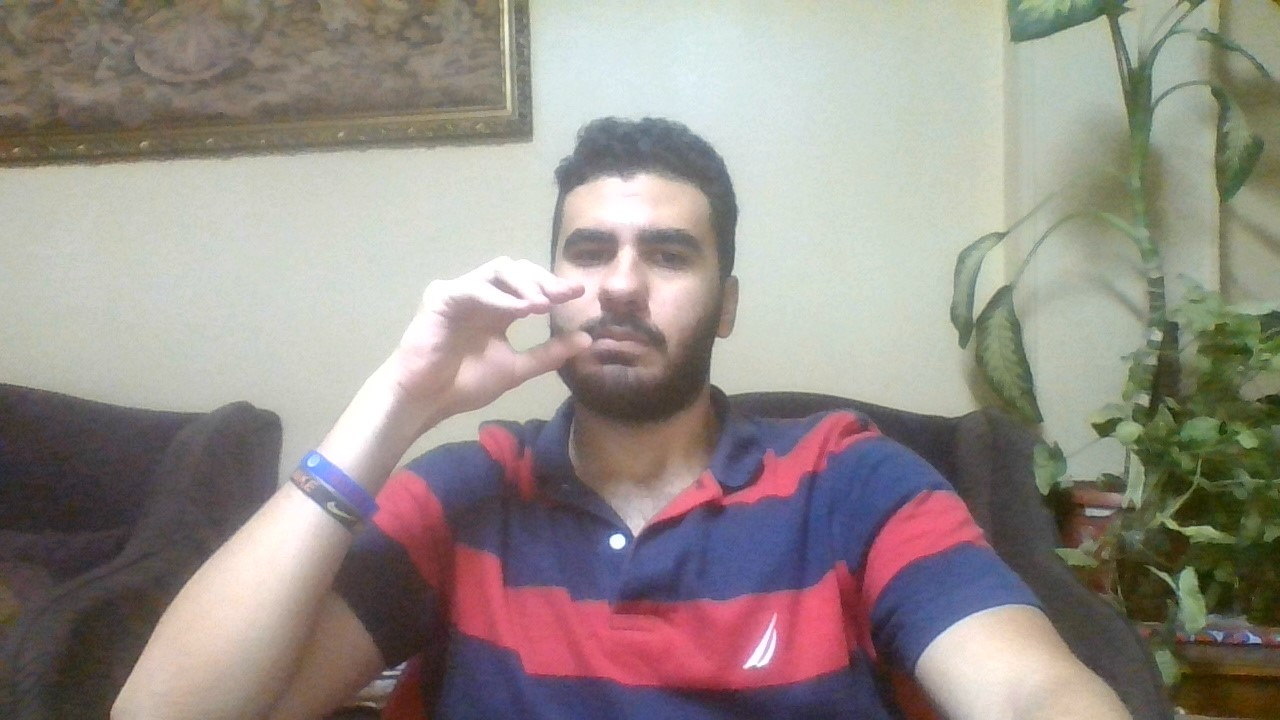drink: (408, 251, 591, 396)
